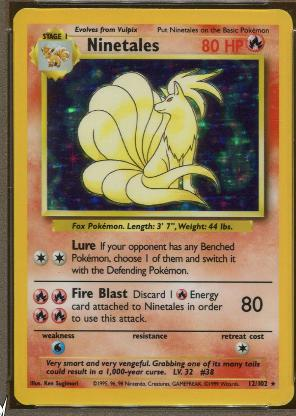Card: (7, 2, 293, 410)
